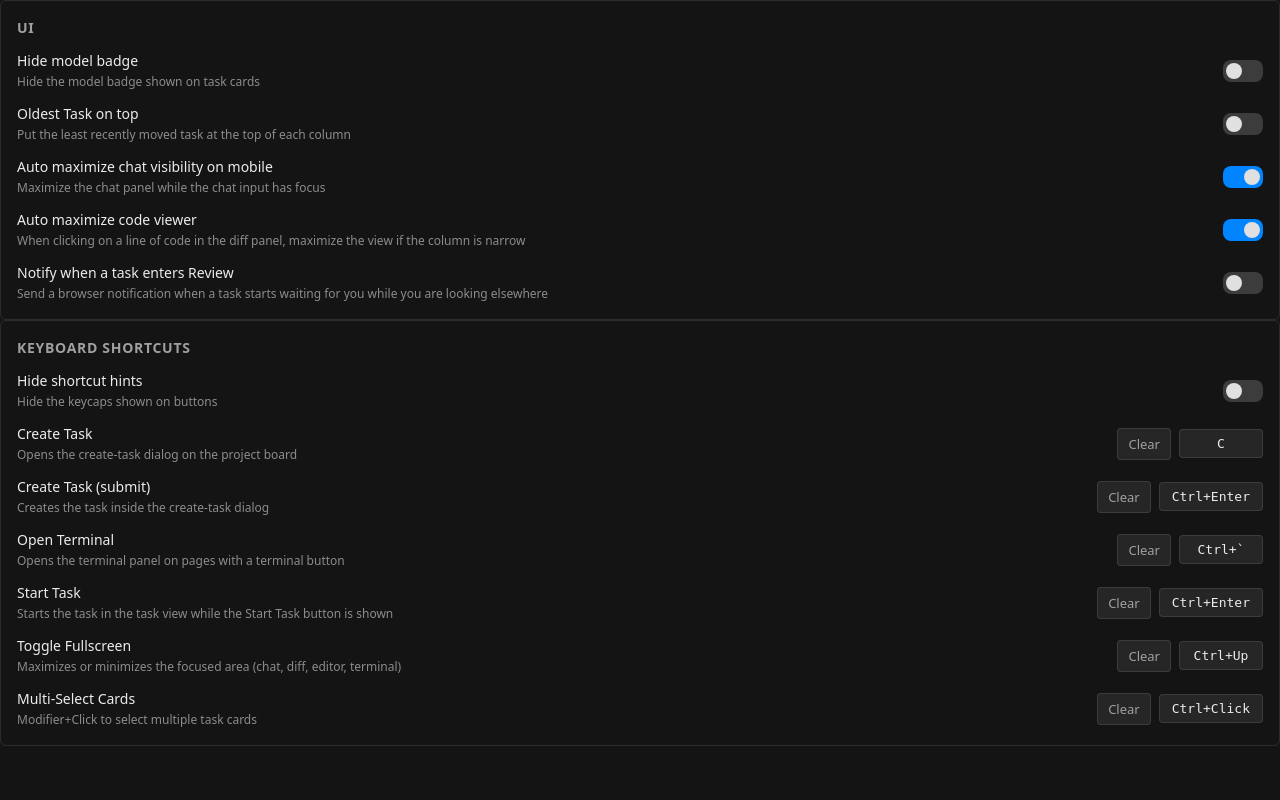
it: PreferencesTab create-task row › cancels capture with Escape without changing the binding
This screenshot has width=1280, height=800.
Click the button named "create task shortcut".
click(1221, 444)  # box 1179,429 -> 1263,458
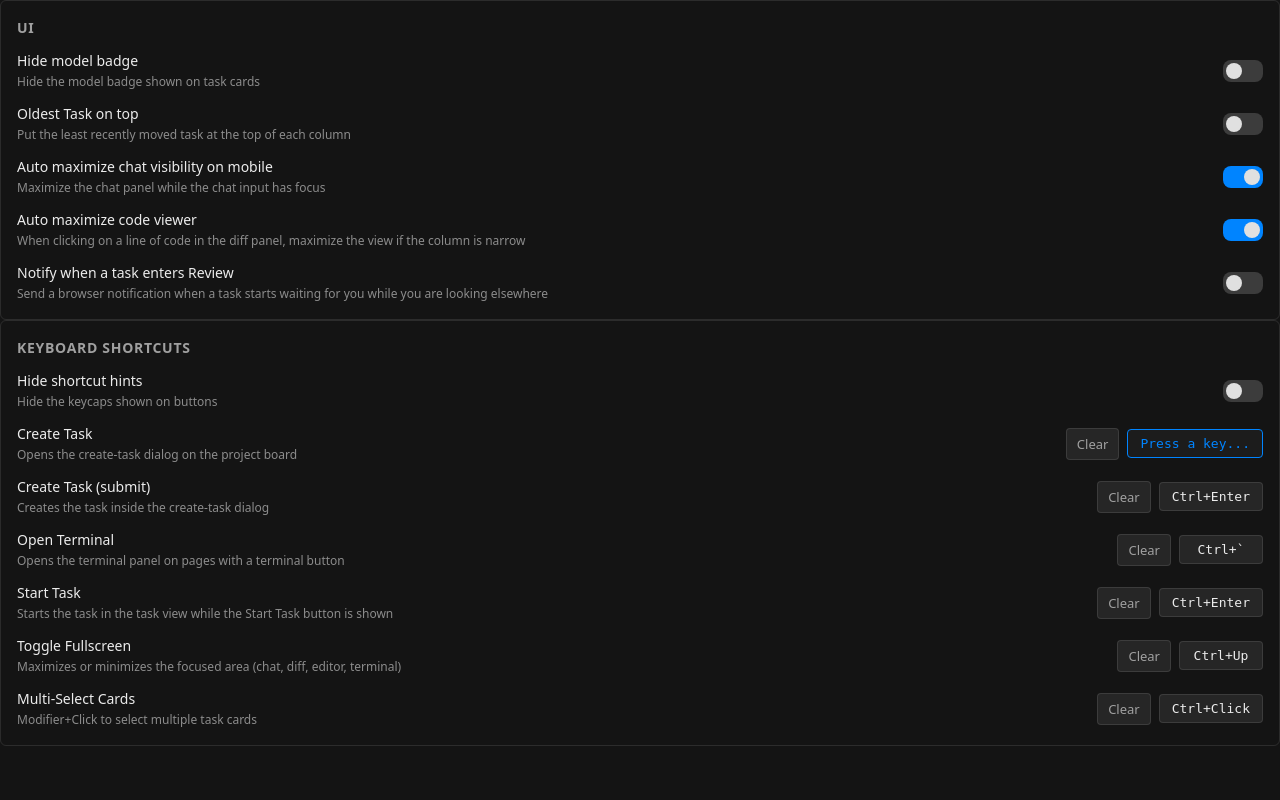
Expected: the button with aria-label "create task shortcut" reads "Press a key...", 1127,429 -> 1263,458
Press Escape
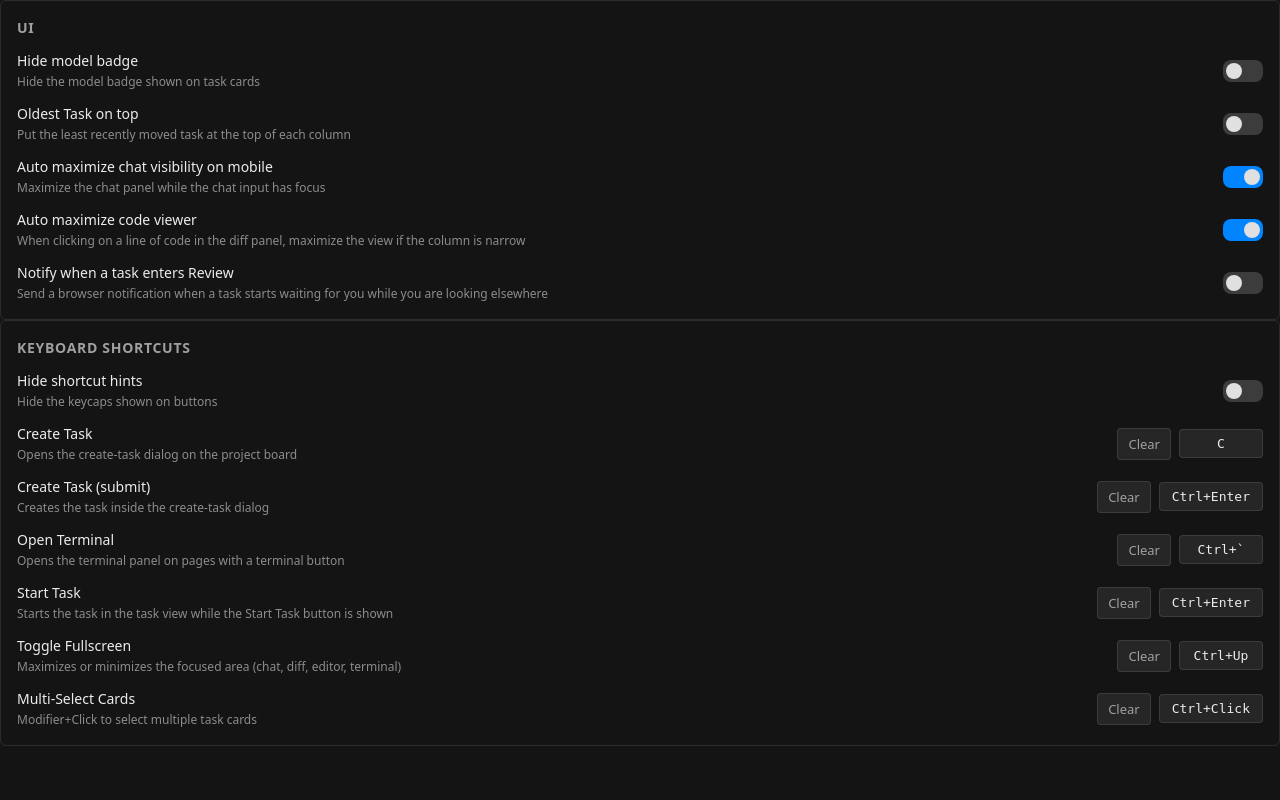
Expected: the button named "create task shortcut" reads "C", 1179,429 -> 1263,458
